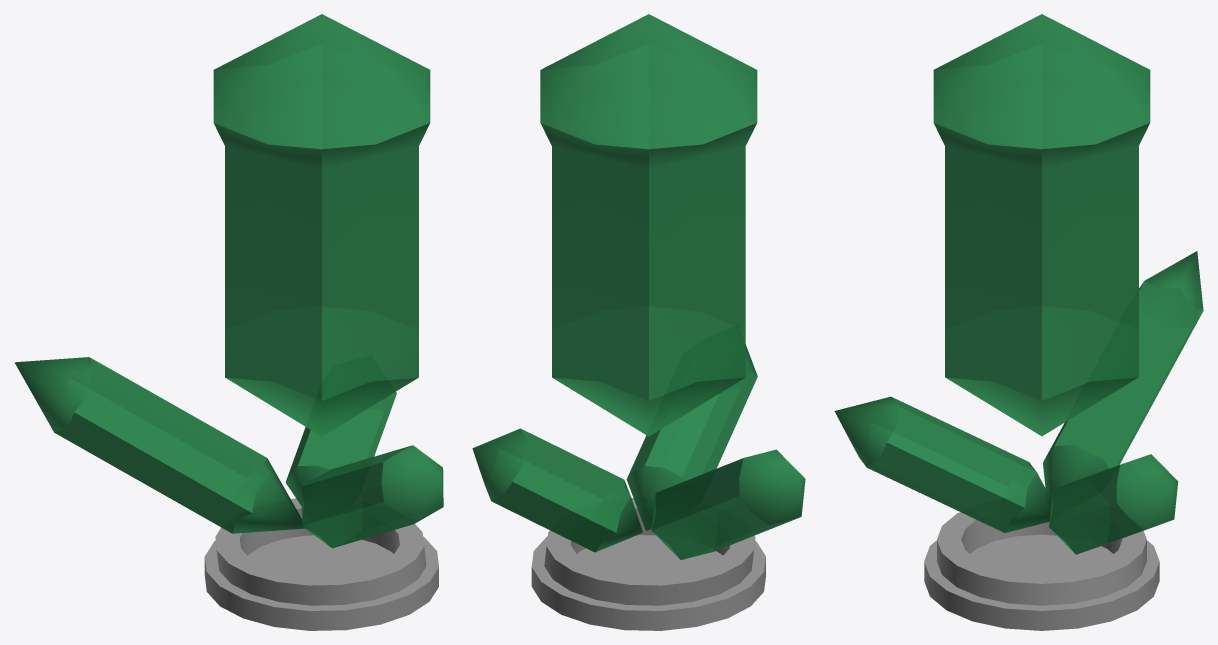
File: Cristal_Gasoso.fbx
3 renders of one model, left to right at view 1: azimuth 30°, elevation 25°; view 2: azimuth 150°, elevation 25°; view 3: azimuth 270°, elevation 25°, orthographic.
Visible parts, largest first — view 1: Prisma_Maior, Prisma_3, Plataforma, Prisma_4, Prisma_2; view 2: Prisma_Maior, Plataforma, Prisma_2, Prisma_3, Prisma_4; view 3: Prisma_Maior, Plataforma, Prisma_4, Prisma_3, Prisma_2.
Part boxes in pixels (box(x1,y1,x2,y2)): Prisma_Maior: box(213, 14, 430, 436); Prisma_3: box(14, 357, 304, 533); Plataforma: box(204, 498, 438, 630); Prisma_4: box(301, 445, 443, 548); Prisma_2: box(285, 392, 396, 505); Prisma_Maior: box(540, 14, 757, 436); Plataforma: box(531, 498, 765, 630); Prisma_2: box(472, 428, 642, 552); Prisma_3: box(651, 449, 805, 559); Prisma_4: box(626, 344, 757, 530); Prisma_Maior: box(933, 14, 1150, 436); Plataforma: box(924, 512, 1159, 630); Prisma_4: box(834, 396, 1051, 532); Prisma_3: box(1043, 251, 1203, 522); Prisma_2: box(1049, 454, 1178, 554).
Bounding box in the file's own units: 357 × 563 × 332.
